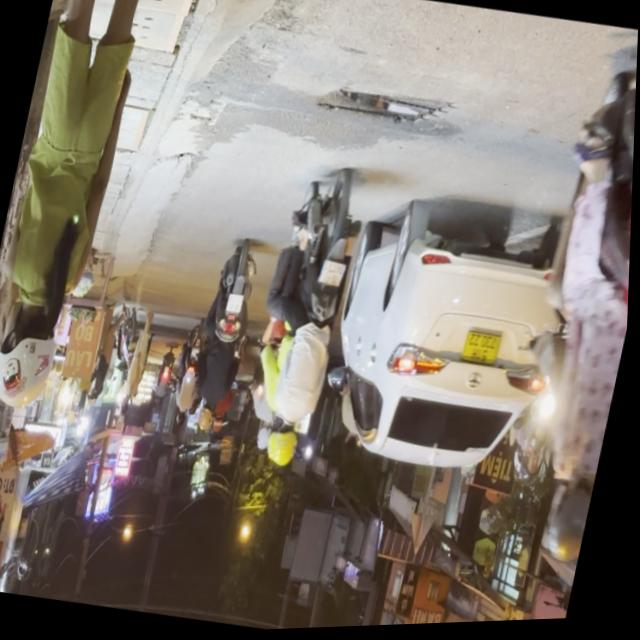helmet: (545, 476, 598, 569), (267, 421, 305, 472), (198, 403, 221, 436), (257, 424, 277, 455)
licenseplate: (488, 40, 638, 574), (235, 164, 377, 478), (184, 240, 269, 442)
nohelmet: (319, 260, 348, 290), (228, 294, 245, 315)
